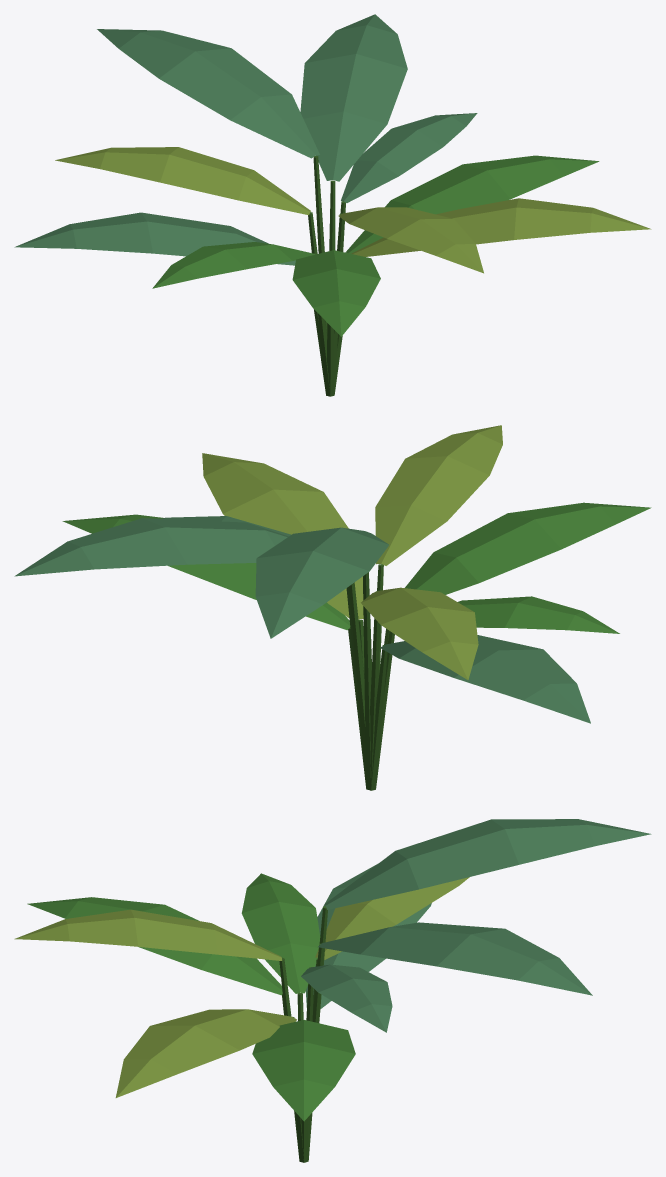
Rendered from banana_understory.glb.
The picture shows the model from 3 angles, top to bottom: view 1: azimuth 30°, elevation 25°; view 2: azimuth 150°, elevation 25°; view 3: azimuth 270°, elevation 25°; orthographic projection. The views are drawn at different scales.
Parts seen in each view (by area): view 1: banana_understory; view 2: banana_understory; view 3: banana_understory.
Boxes of the visible parts, bbox=[...] form: banana_understory: bbox=[14, 14, 651, 396]; banana_understory: bbox=[14, 425, 651, 790]; banana_understory: bbox=[14, 819, 651, 1162].
Size of the model in its own units: 3.52 by 1.83 by 3.43.
